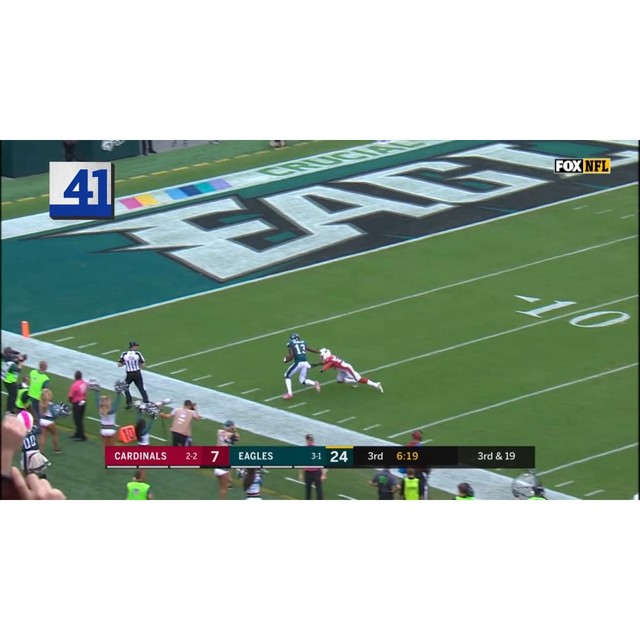american-football-player: (316, 346, 383, 391), (282, 333, 322, 400)
referee: (117, 340, 152, 410)
